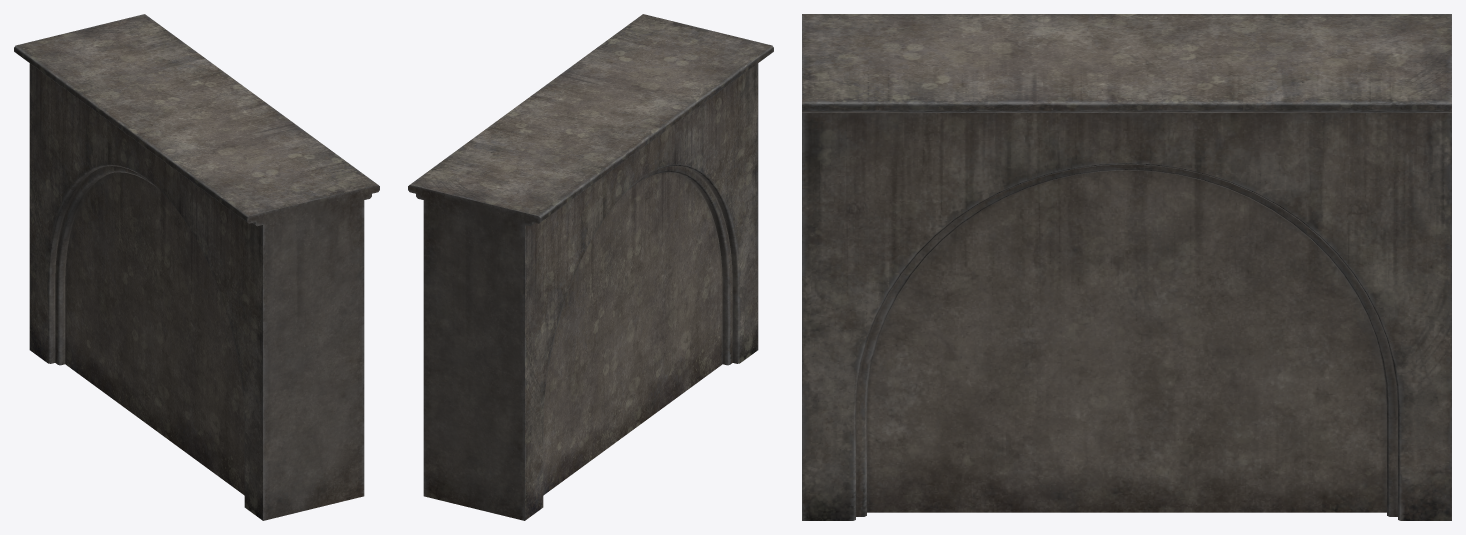
File: SM_RetainingWallA.fbx
3 renders of one model, left to right at view 1: azimuth 30°, elevation 25°; view 2: azimuth 150°, elevation 25°; view 3: azimuth 270°, elevation 25°, orthographic. The views are drawn at different scales.
Parts seen in each view (by area): view 1: SM_RetainingWallA_LOD0; view 2: SM_RetainingWallA_LOD0; view 3: SM_RetainingWallA_LOD0.
Boxes of the visible parts, box(x1,y1,x2,y2) form: SM_RetainingWallA_LOD0: box(14, 14, 379, 520); SM_RetainingWallA_LOD0: box(408, 14, 773, 520); SM_RetainingWallA_LOD0: box(802, 14, 1451, 520).
Size of the model in its own units: 65.51 by 200 by 146.
Materials: 1 (1 with a texture image).
